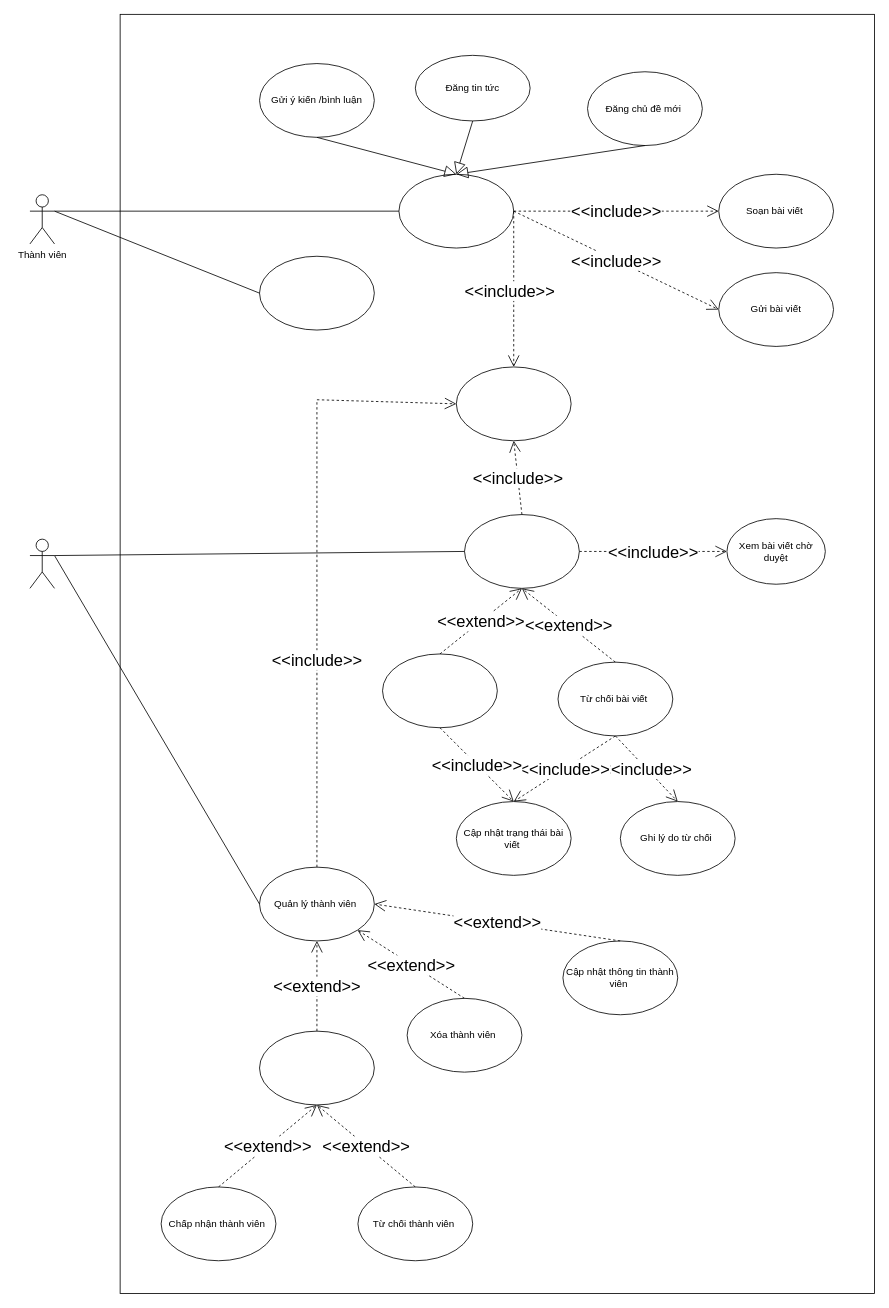
Some shapes in this 889 by 1308 pixel diagram are drawn without their labels. Each missing label, with the centre of its shape:
"Chấp nhận bài viết" goes at (x=439, y=690).
"Duyệt bài viết" goes at (x=521, y=551).
"Quản trị viên" goes at (x=42, y=563).
"xem thông báo duyệt bài" goes at (x=316, y=292).
"Xét đăng kí thành viên" goes at (x=316, y=1067).
"Đăng bài viết" goes at (x=456, y=210).
"Đăng nhập" goes at (x=513, y=403).
